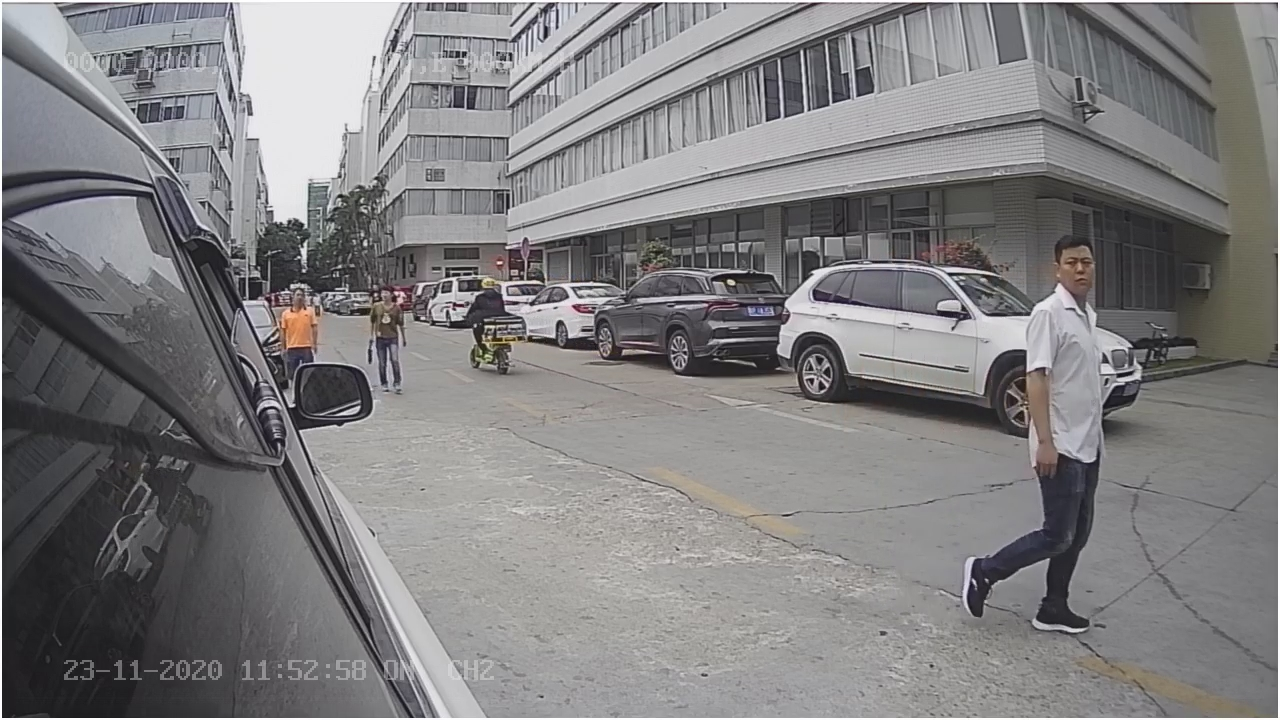person: (997, 231, 1110, 626)
